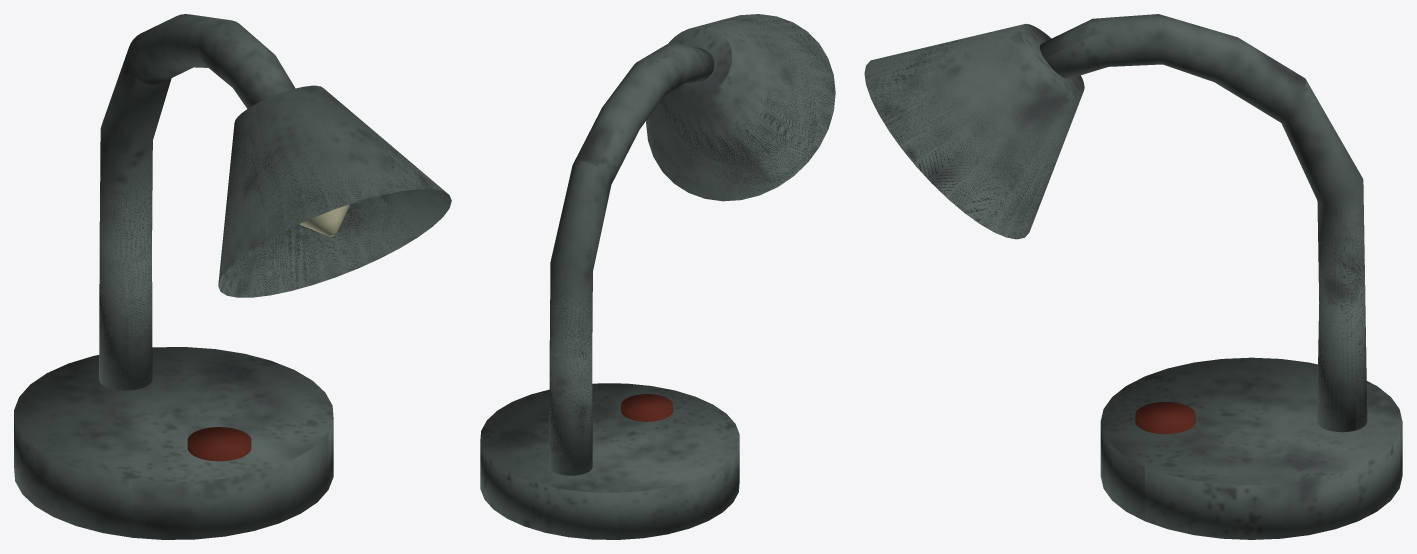
File: lamp.fbx
The picture shows the model from 3 angles, left to right: view 1: azimuth 30°, elevation 25°; view 2: azimuth 150°, elevation 25°; view 3: azimuth 270°, elevation 25°; orthographic projection. The views are drawn at different scales.
Parts seen in each view (by area): view 1: Cylinder.002, Cylinder.001, Cylinder.004; view 2: Cylinder.002, Cylinder.001; view 3: Cylinder.002, Cylinder.001.
Boxes of the visible parts, x1,y1,x2,y2 form: Cylinder.002: (14, 14, 451, 539); Cylinder.001: (187, 427, 251, 461); Cylinder.004: (300, 204, 349, 236); Cylinder.002: (480, 14, 835, 539); Cylinder.001: (621, 394, 672, 421); Cylinder.002: (864, 14, 1402, 539); Cylinder.001: (1135, 402, 1195, 434).
Size of the model in its own units: 200 by 336 by 356.
Materials: 3 (1 with a texture image).
